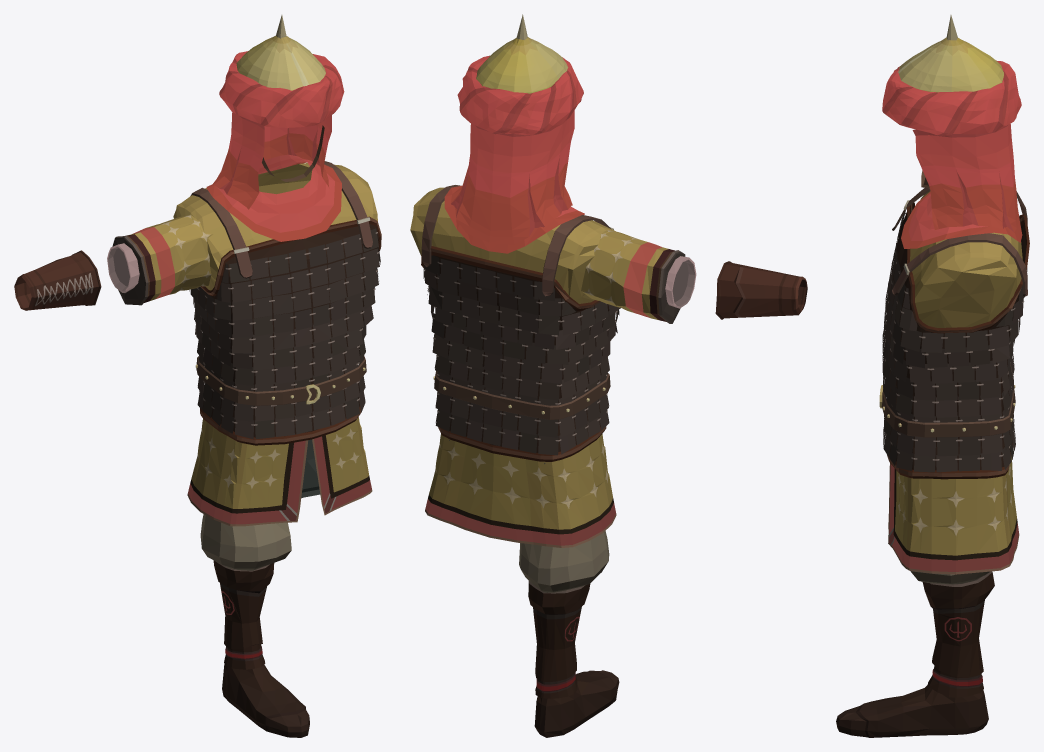
Rendered from arabianKnight.glb.
3 views of the same model, side by side, from view 1: azimuth 30°, elevation 25°; view 2: azimuth 150°, elevation 25°; view 3: azimuth 270°, elevation 25° (orthographic). The views are drawn at different scales.
Parts seen in each view (by area): view 1: arabianKnightArmor, arabianKnightHelmet, arabianKnightUpperArm, arabianKnightLowerLeg, arabianKnightFoot, arabianKnightLowerArm, arabianKnightUpperLeg; view 2: arabianKnightArmor, arabianKnightHelmet, arabianKnightUpperArm, arabianKnightLowerLeg, arabianKnightLowerArm, arabianKnightUpperLeg, arabianKnightFoot; view 3: arabianKnightArmor, arabianKnightHelmet, arabianKnightLowerLeg, arabianKnightFoot, arabianKnightUpperLeg.
Boxes of the visible parts, left/top/right/bottom form: arabianKnightArmor: left=173, top=154, right=381, bottom=526; arabianKnightHelmet: left=212, top=15, right=344, bottom=209; arabianKnightUpperArm: left=107, top=215, right=212, bottom=305; arabianKnightLowerLeg: left=213, top=560, right=274, bottom=669; arabianKnightFoot: left=222, top=664, right=309, bottom=737; arabianKnightLowerArm: left=14, top=250, right=101, bottom=310; arabianKnightUpperLeg: left=200, top=514, right=291, bottom=570; arabianKnightArmor: left=410, top=185, right=620, bottom=547; arabianKnightHelmet: left=450, top=14, right=583, bottom=244; arabianKnightUpperArm: left=581, top=230, right=696, bottom=323; arabianKnightLowerLeg: left=528, top=581, right=590, bottom=698; arabianKnightLowerArm: left=715, top=261, right=807, bottom=319; arabianKnightUpperLeg: left=519, top=531, right=609, bottom=592; arabianKnightFoot: left=534, top=670, right=619, bottom=737; arabianKnightArmor: left=879, top=187, right=1029, bottom=574; arabianKnightHelmet: left=882, top=15, right=1021, bottom=235; arabianKnightLowerLeg: left=922, top=571, right=994, bottom=697; arabianKnightFoot: left=836, top=684, right=988, bottom=737; arabianKnightUpperLeg: left=910, top=570, right=990, bottom=584.
Size of the model in its own units: 1.17 by 2.12 by 0.5092.
